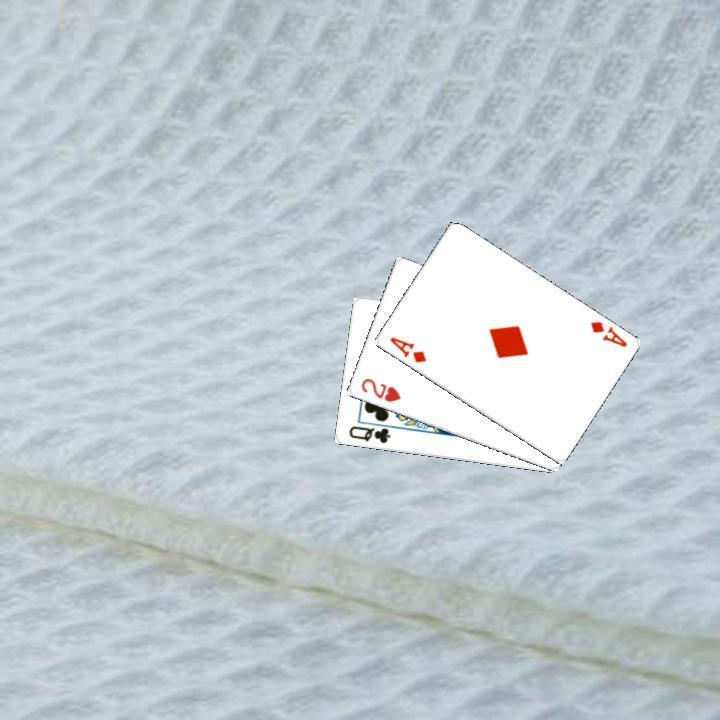2: (356, 374, 403, 404)
A: (385, 332, 428, 365), (585, 317, 629, 349)
Q: (344, 422, 392, 446)
